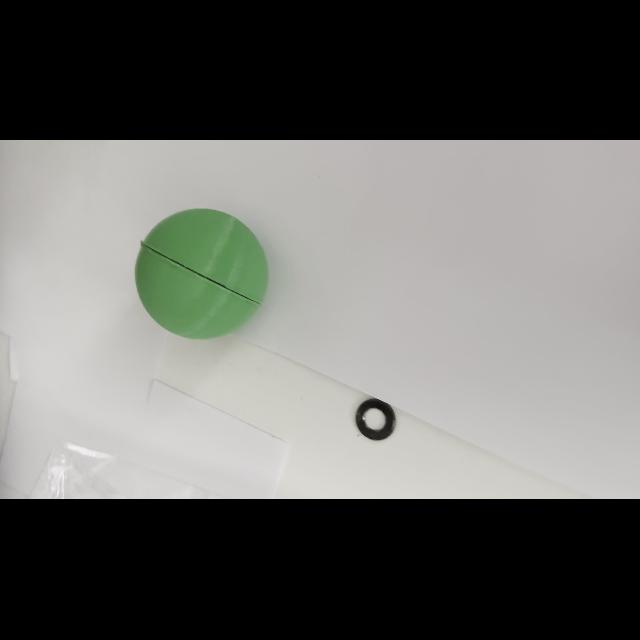objects: (130, 204, 272, 342)
